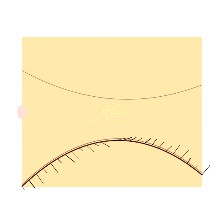corneal_ulcer: (79, 97, 127, 136)
